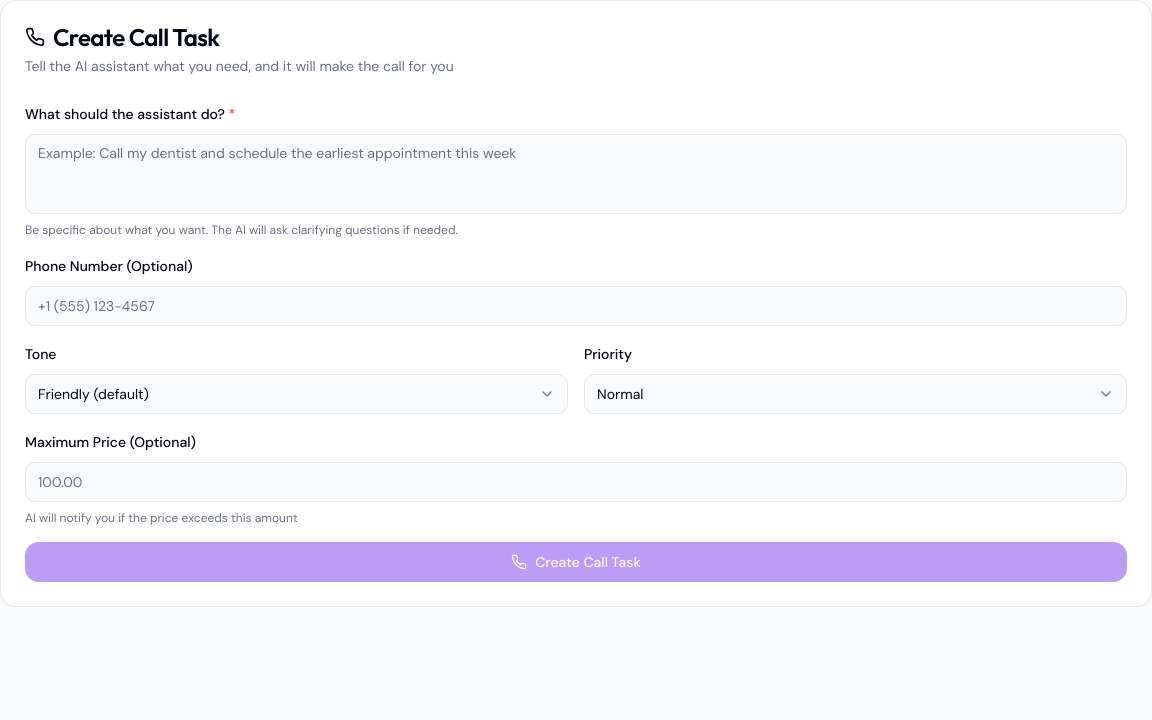
CallTaskComposer › should show clarification UI when needed
Replace the text in the text box with placeholder "Example:" with "Call someone" at [576, 174], box [25, 134, 1127, 214]
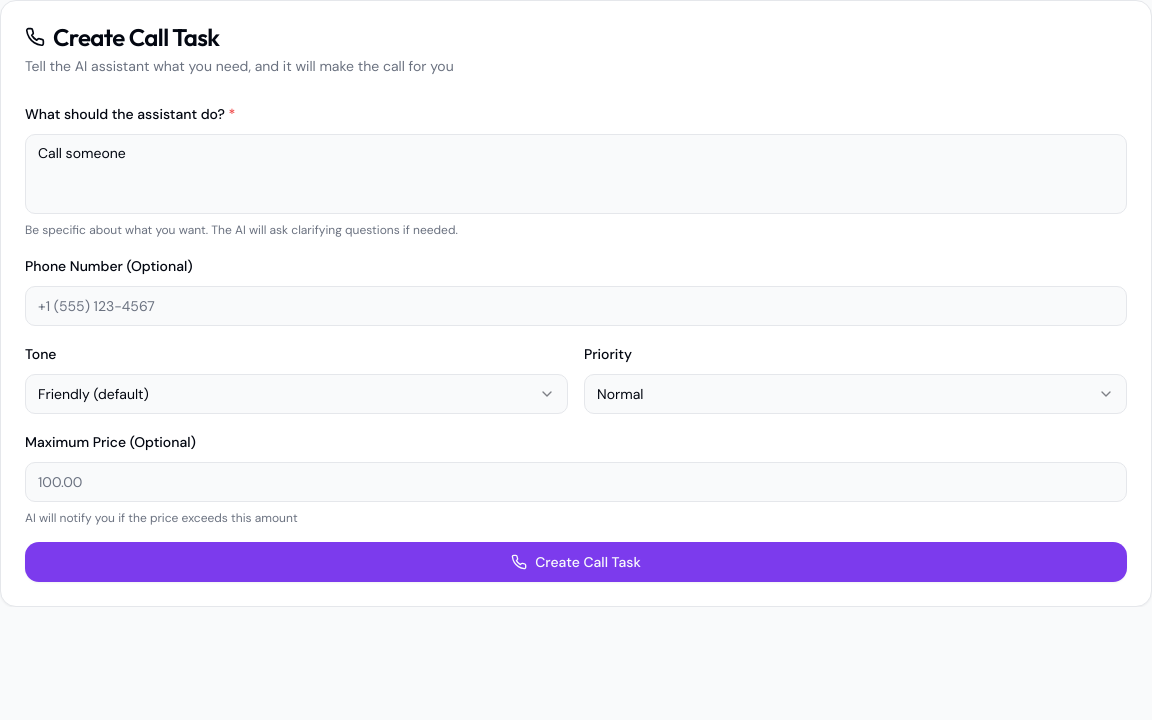
Click the button "Create Call Task".
click(576, 562)  # box [25, 542, 1127, 582]
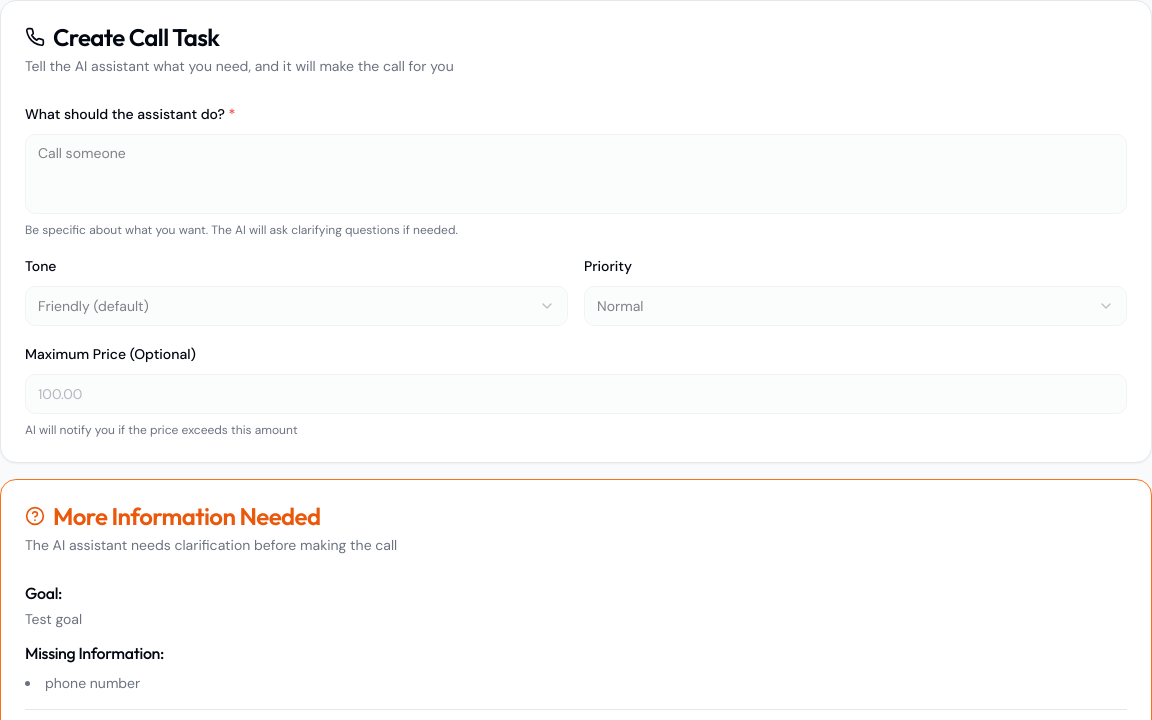
Check: the heading "More Information Needed" is shown, box [25, 501, 320, 531]
